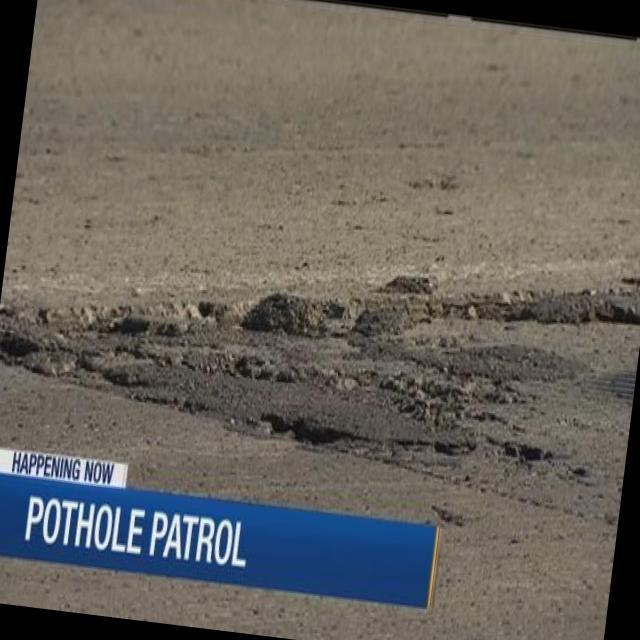Pothole: (0, 220, 640, 476)
